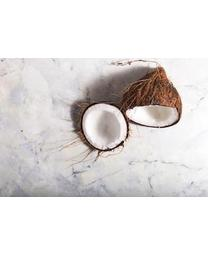coconut: (122, 71, 183, 129), (80, 101, 128, 151)
